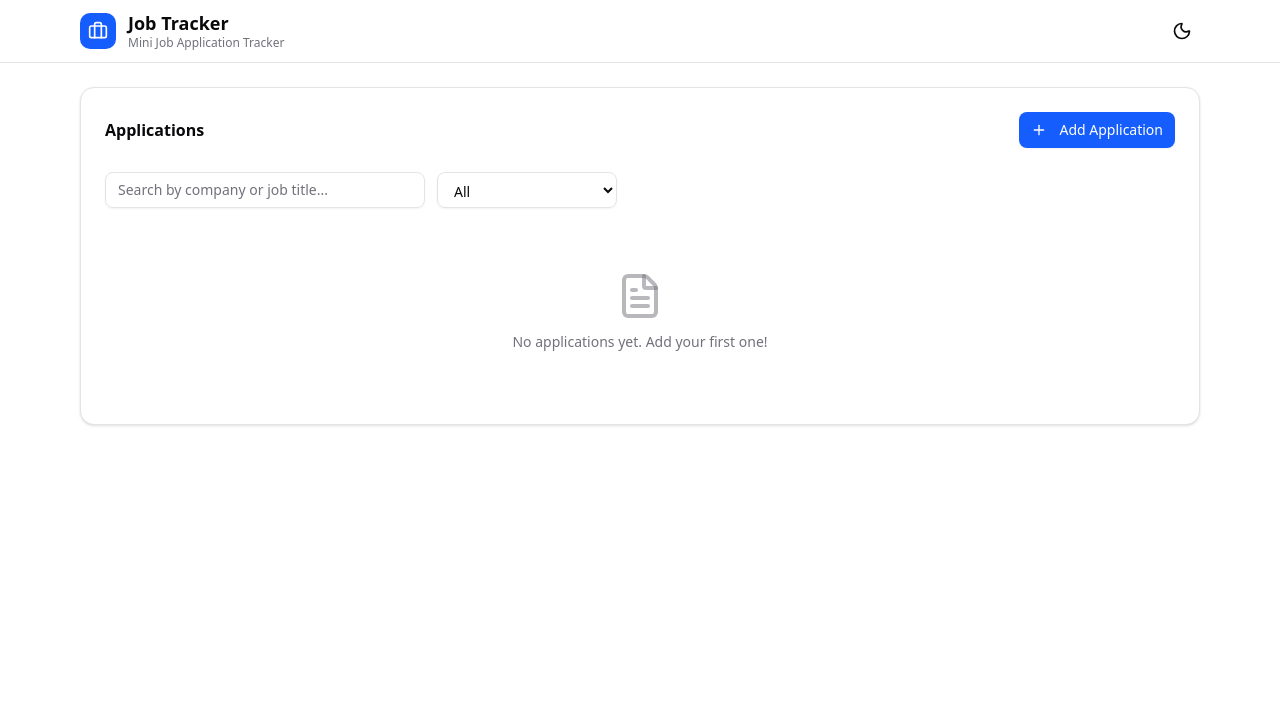
Test case: ApplicationsPage › opens add form when clicking add button
Step 1. Click the button "Add Application" → [1097, 130], box 1019,112 -> 1175,148
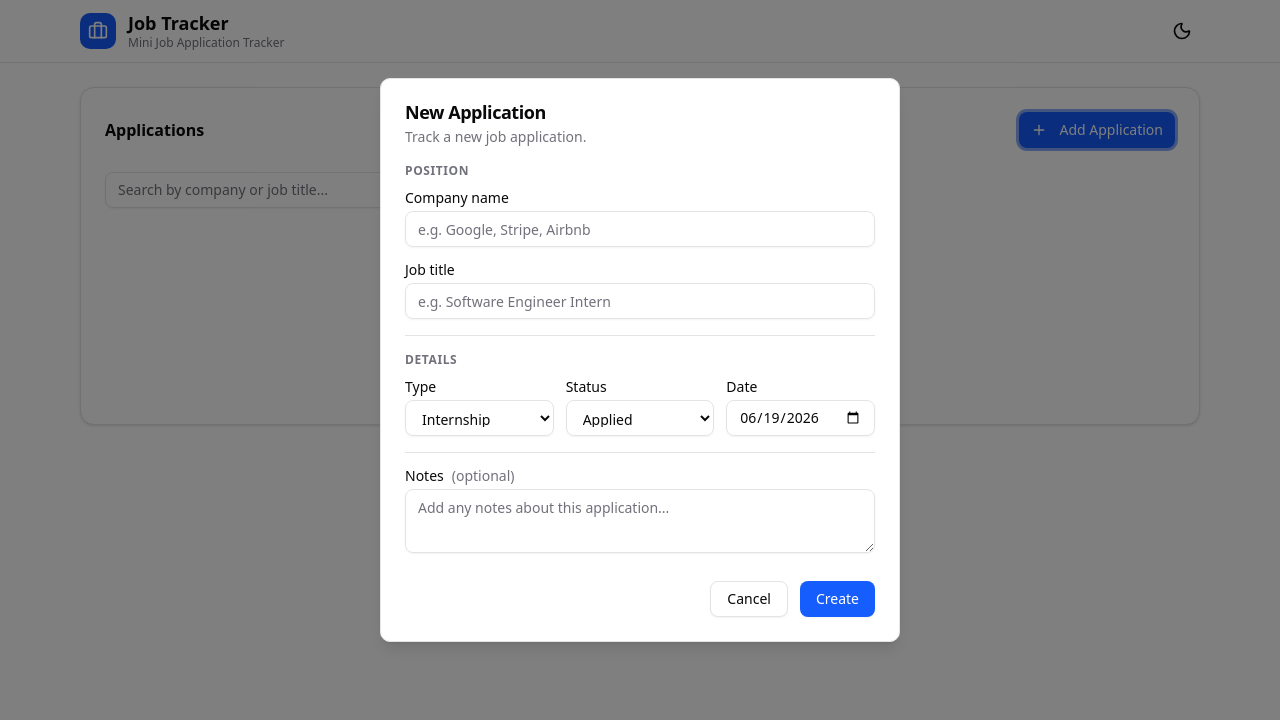
Expected: the heading "New Application" is shown, 405,100 -> 546,124
